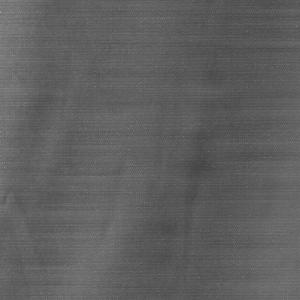Wrinkle: (183, 105, 223, 300), (1, 184, 61, 300)
